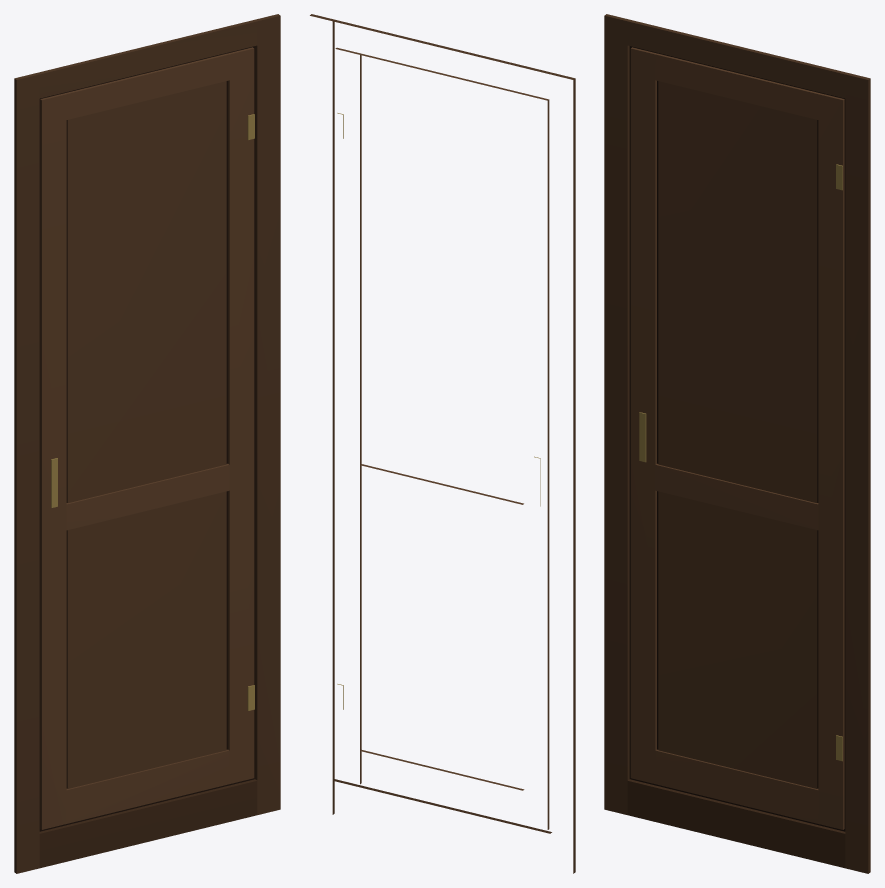
The model's file is cabinet.closet_front.walnut.glb.
The picture shows the model from 3 angles, left to right: view 1: azimuth 30°, elevation 25°; view 2: azimuth 150°, elevation 25°; view 3: azimuth 330°, elevation 25°; orthographic projection.
Parts seen in each view (by area): view 1: cabinet_closet_front_walnut; view 2: cabinet_closet_front_walnut; view 3: cabinet_closet_front_walnut.
Part boxes in pixels (x1,y1,x2,y2): cabinet_closet_front_walnut: [14, 14, 280, 873]; cabinet_closet_front_walnut: [310, 14, 575, 873]; cabinet_closet_front_walnut: [604, 14, 870, 873].
Size of what is drawn, in the model's own units: 0.8 by 2.3 by 0.012.
